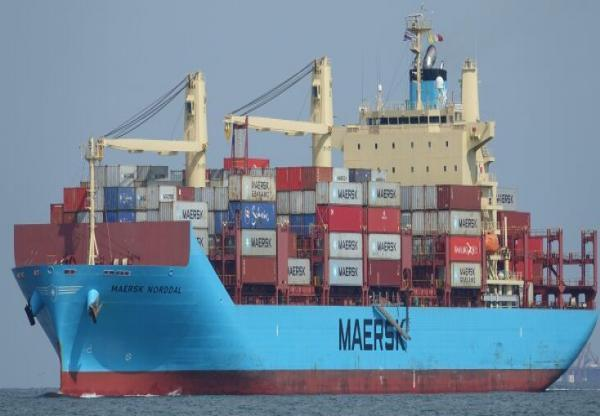Container Ship: (11, 5, 599, 397)
